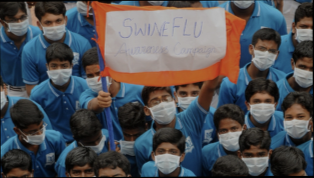with_mask: (148, 92, 176, 125), (280, 110, 310, 139), (85, 67, 112, 97), (45, 60, 73, 88), (241, 148, 269, 176), (153, 144, 179, 174), (217, 122, 242, 152), (251, 42, 277, 70), (249, 95, 274, 124), (40, 15, 67, 40), (20, 121, 46, 146), (175, 87, 200, 113), (291, 60, 312, 88), (5, 12, 28, 36), (81, 133, 106, 155), (293, 20, 312, 43)
